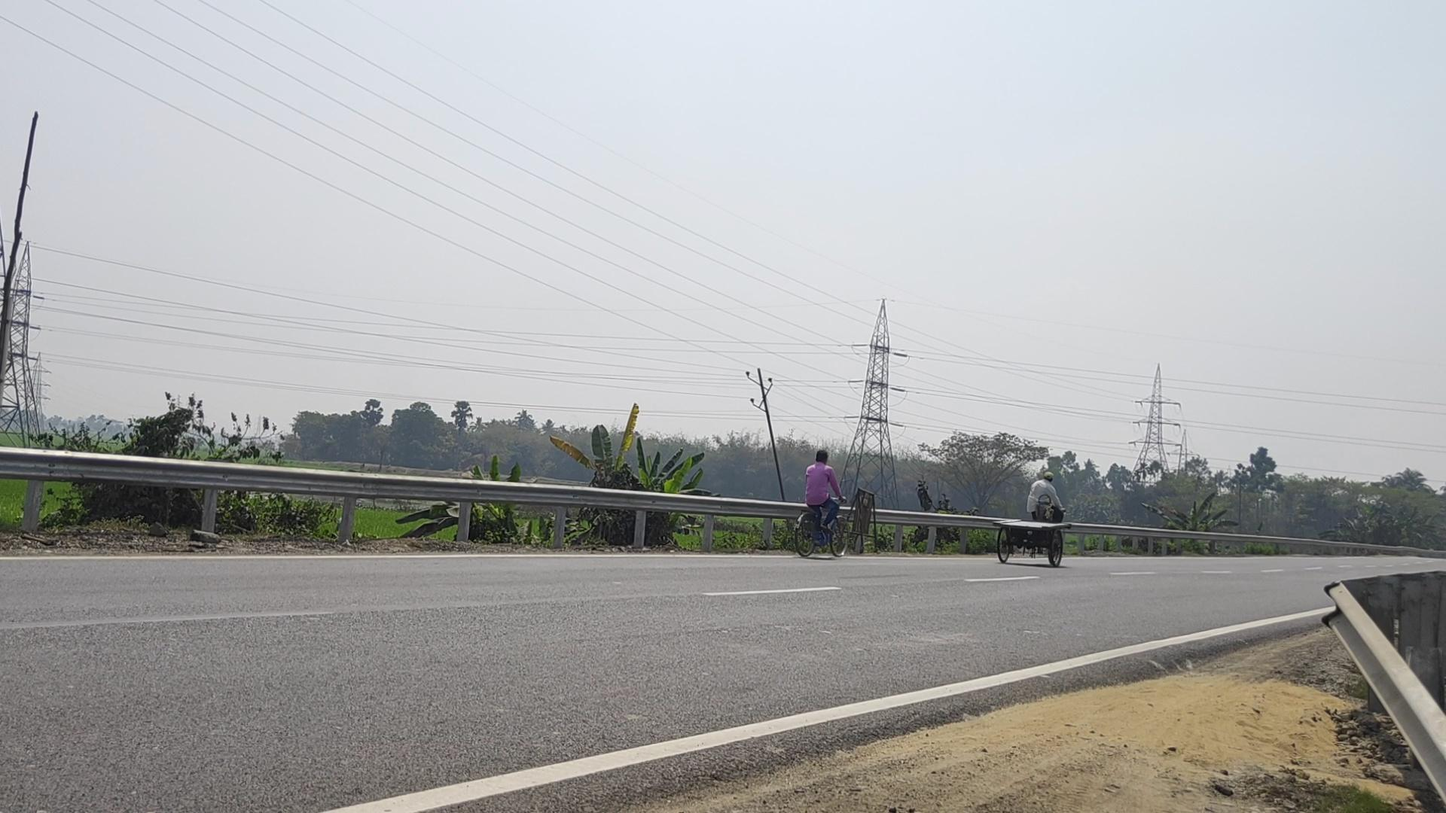bike: (795, 450, 849, 558)
